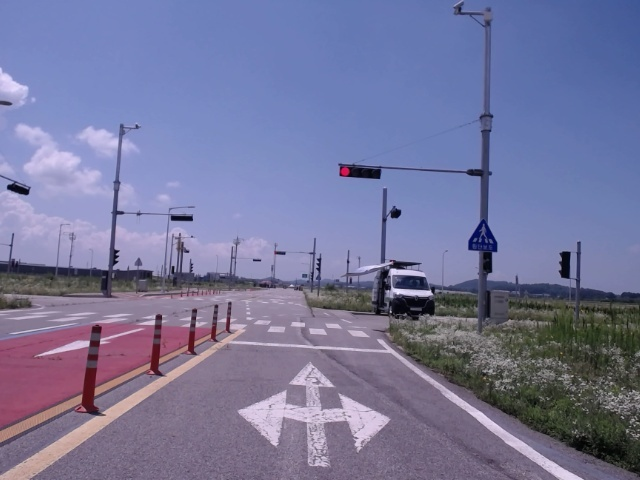red_4: (340, 167, 380, 179)
